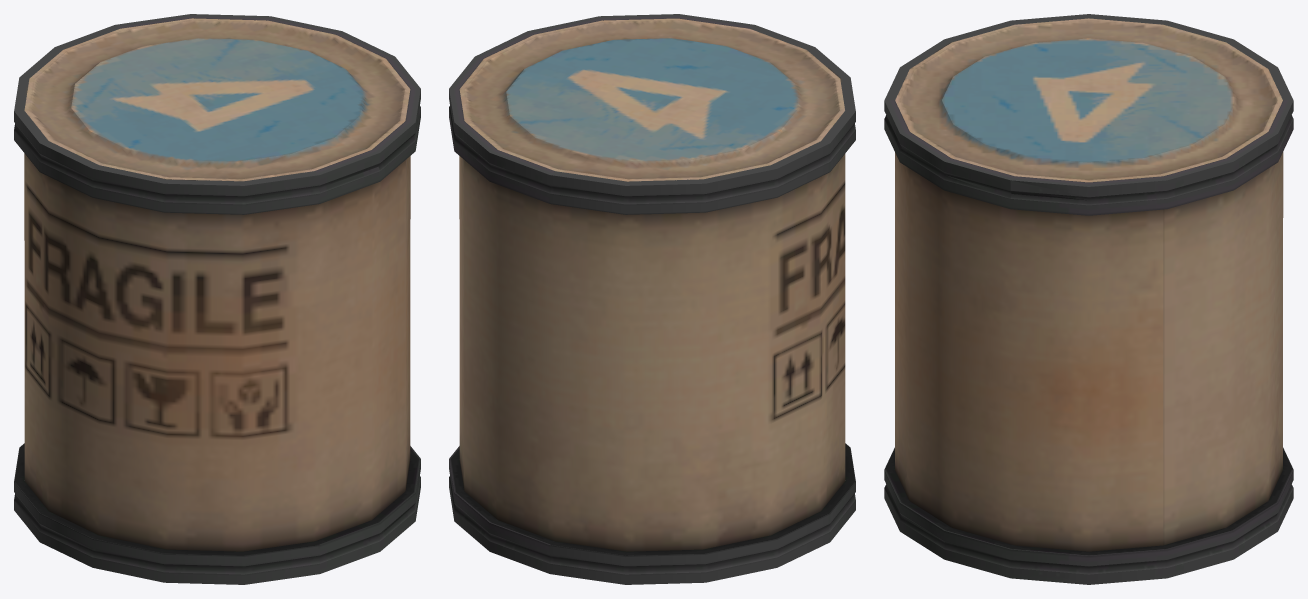
File: DYN_cardboard_Barrel.FBX
3 renders of one model, left to right at view 1: azimuth 30°, elevation 25°; view 2: azimuth 150°, elevation 25°; view 3: azimuth 270°, elevation 25°, orthographic.
Parts seen in each view (by area): view 1: DYN_cardboard_Barrel; view 2: DYN_cardboard_Barrel; view 3: DYN_cardboard_Barrel.
Boxes of the visible parts, x1,y1,x2,y2 form: DYN_cardboard_Barrel: [14, 14, 420, 584]; DYN_cardboard_Barrel: [449, 14, 855, 584]; DYN_cardboard_Barrel: [884, 14, 1293, 584].
Size of the model in its own units: 67.82 by 72.77 by 67.82.
Materials: 1 (1 with a texture image).
